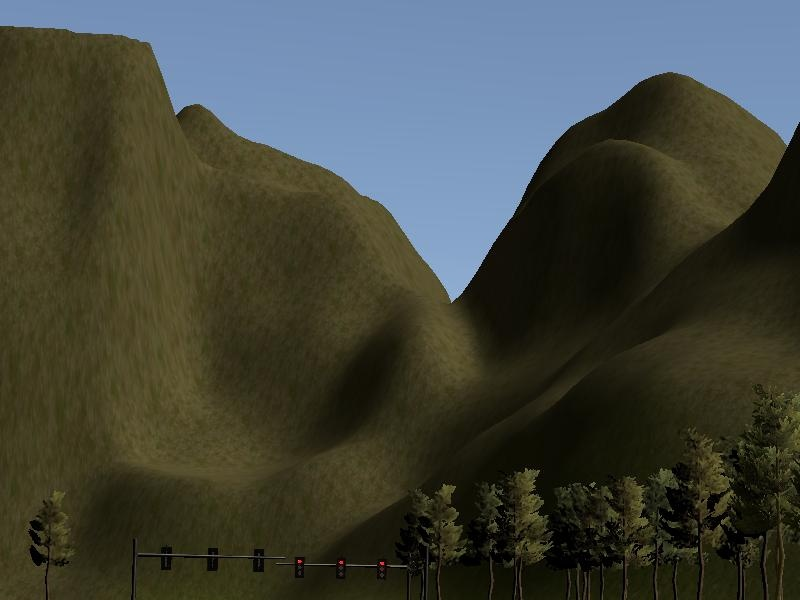red: (330, 552, 353, 587), (289, 552, 310, 585), (372, 553, 390, 585)
